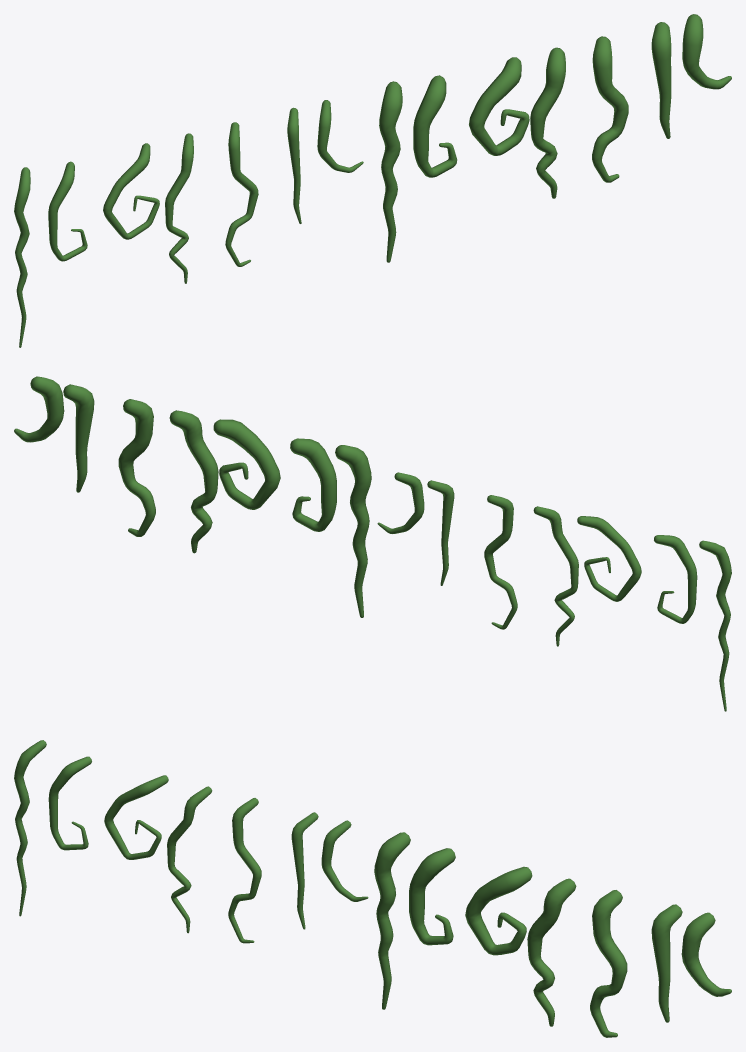
Rendered from Ruin Root Set 01.fbx.
3 renders of one model, top to bottom at view 1: azimuth 30°, elevation 25°; view 2: azimuth 150°, elevation 25°; view 3: azimuth 330°, elevation 25°, orthographic.
Parts seen in each view (by area): view 1: Ruin Root 010, Ruin Root 08, Ruin Root 012, Ruin Root 011, Ruin Root 09, Ruin Root 013, Ruin Root 03, Ruin Root 014, Ruin Root 01, Ruin Root 05, Ruin Root 04, Ruin Root 02 (+2 smaller); view 2: Ruin Root 010, Ruin Root 08, Ruin Root 012, Ruin Root 011, Ruin Root 09, Ruin Root 03, Ruin Root 013, Ruin Root 01, Ruin Root 05, Ruin Root 014, Ruin Root 04, Ruin Root 02 (+2 smaller); view 3: Ruin Root 010, Ruin Root 012, Ruin Root 08, Ruin Root 011, Ruin Root 09, Ruin Root 013, Ruin Root 03, Ruin Root 014, Ruin Root 05, Ruin Root 01, Ruin Root 04, Ruin Root 02 (+2 smaller).
Part boxes in pixels (<box>): Ruin Root 010: <box>469,57,529,155</box>; Ruin Root 08: <box>379,81,402,262</box>; Ruin Root 012: <box>592,36,628,182</box>; Ruin Root 011: <box>530,47,565,198</box>; Ruin Root 09: <box>413,75,457,177</box>; Ruin Root 013: <box>651,22,671,138</box>; Ruin Root 03: <box>103,143,159,239</box>; Ruin Root 014: <box>682,14,731,89</box>; Ruin Root 01: <box>14,167,30,347</box>; Ruin Root 05: <box>225,122,258,266</box>; Ruin Root 04: <box>165,133,193,283</box>; Ruin Root 02: <box>48,161,87,261</box>; Ruin Root 010: <box>213,419,280,509</box>; Ruin Root 08: <box>335,445,371,617</box>; Ruin Root 012: <box>118,399,155,536</box>; Ruin Root 011: <box>169,410,218,553</box>; Ruin Root 09: <box>290,438,336,531</box>; Ruin Root 03: <box>577,516,641,601</box>; Ruin Root 013: <box>63,384,94,492</box>; Ruin Root 01: <box>699,540,731,711</box>; Ruin Root 05: <box>484,495,517,629</box>; Ruin Root 014: <box>14,376,64,442</box>; Ruin Root 04: <box>533,506,578,646</box>; Ruin Root 02: <box>654,535,697,623</box>; Ruin Root 010: <box>465,866,532,955</box>; Ruin Root 012: <box>590,890,627,1037</box>; Ruin Root 08: <box>374,832,410,1009</box>; Ruin Root 011: <box>527,878,576,1026</box>; Ruin Root 09: <box>409,848,455,945</box>; Ruin Root 013: <box>651,904,682,1022</box>; Ruin Root 03: <box>104,775,168,859</box>; Ruin Root 014: <box>681,912,731,996</box>; Ruin Root 05: <box>228,798,261,943</box>; Ruin Root 01: <box>14,740,46,916</box>; Ruin Root 04: <box>167,786,212,933</box>; Ruin Root 02: <box>48,756,91,850</box>.
Size of the model in its own units: 24.18 by 5.6 by 1.16.
